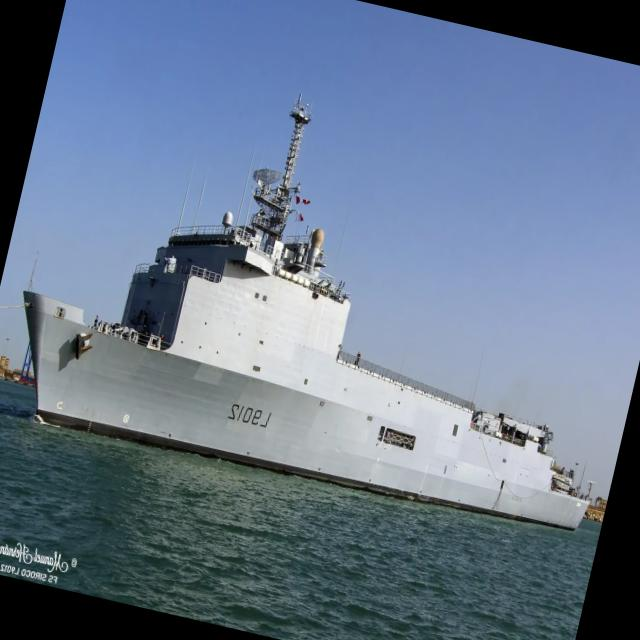Military: (20, 99, 590, 531)
